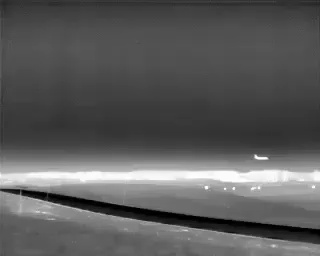AIRPLANE: (252, 152, 271, 163)
